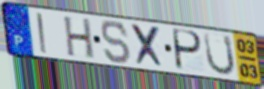H: (63, 16, 96, 61)
I: (35, 12, 50, 56)
P: (172, 27, 204, 73)
S: (99, 19, 133, 66)
U: (202, 31, 237, 77)
X: (130, 22, 166, 70)
